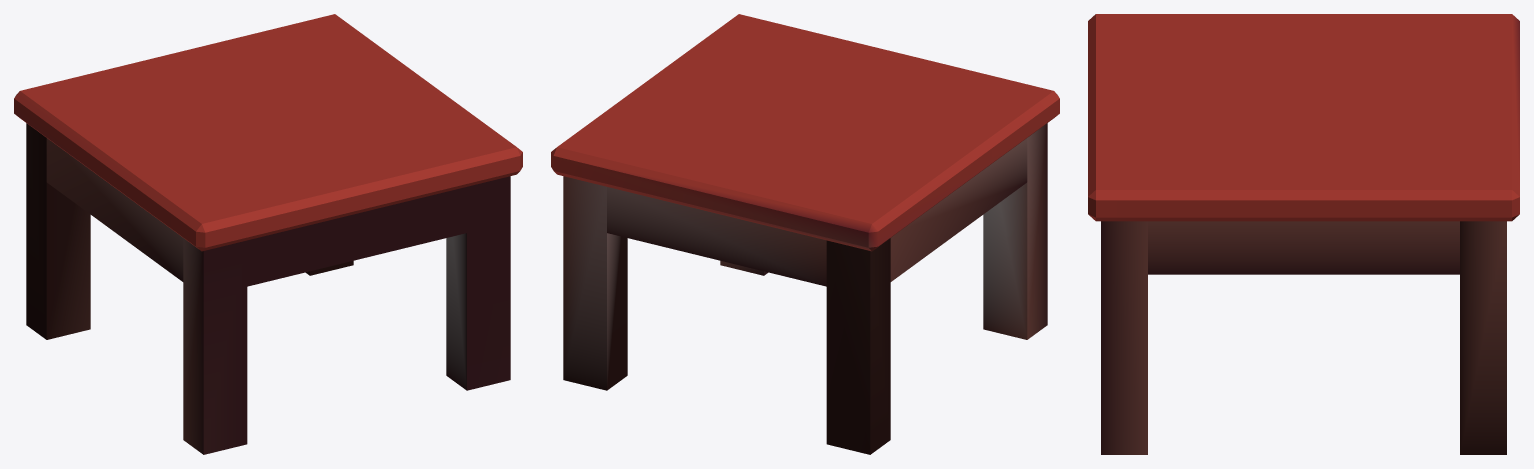
Rendered from mv_chair_02.fbx.
The picture shows the model from 3 angles, left to right: view 1: azimuth 30°, elevation 25°; view 2: azimuth 150°, elevation 25°; view 3: azimuth 270°, elevation 25°; orthographic projection. The views are drawn at different scales.
Visible parts, largest first — view 1: mv_chair; view 2: mv_chair; view 3: mv_chair.
Part boxes in pixels (<box>): mv_chair: <box>14,14,522,454</box>; mv_chair: <box>551,14,1059,454</box>; mv_chair: <box>1088,14,1519,454</box>.
Bounding box in the file's own units: 0.5506 × 0.5506 × 0.3759.
